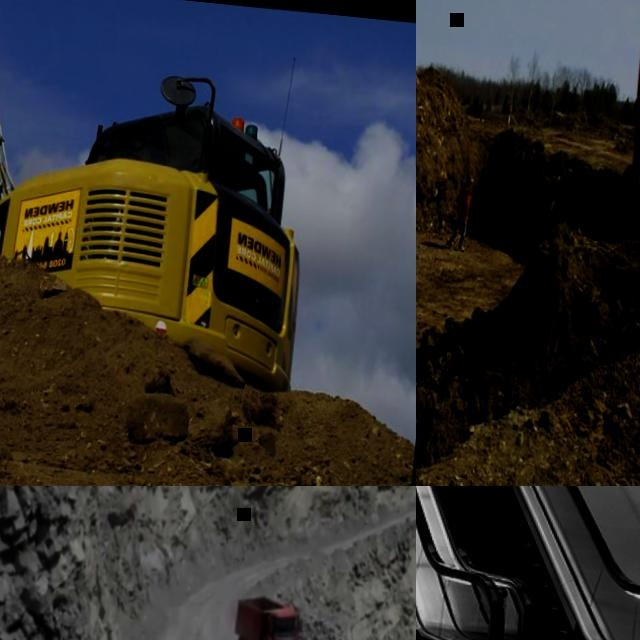Hardhat: (466, 175, 473, 182)
NO-Safety Vest: (455, 188, 471, 219)
Person: (445, 173, 474, 252)
machinery: (0, 28, 321, 412), (608, 0, 640, 233), (228, 585, 306, 640)
